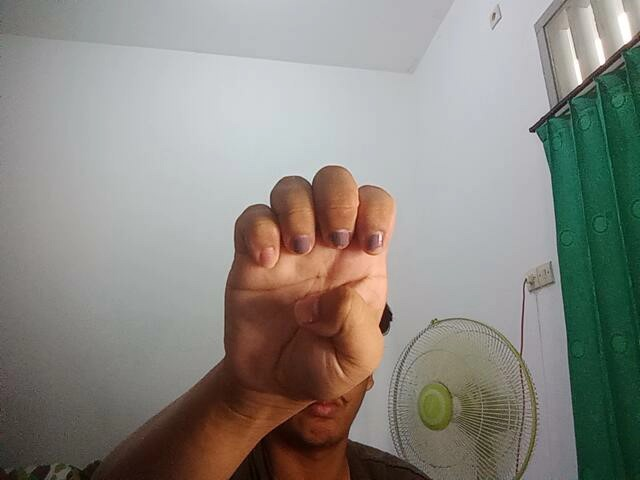E: (217, 152, 390, 406)
